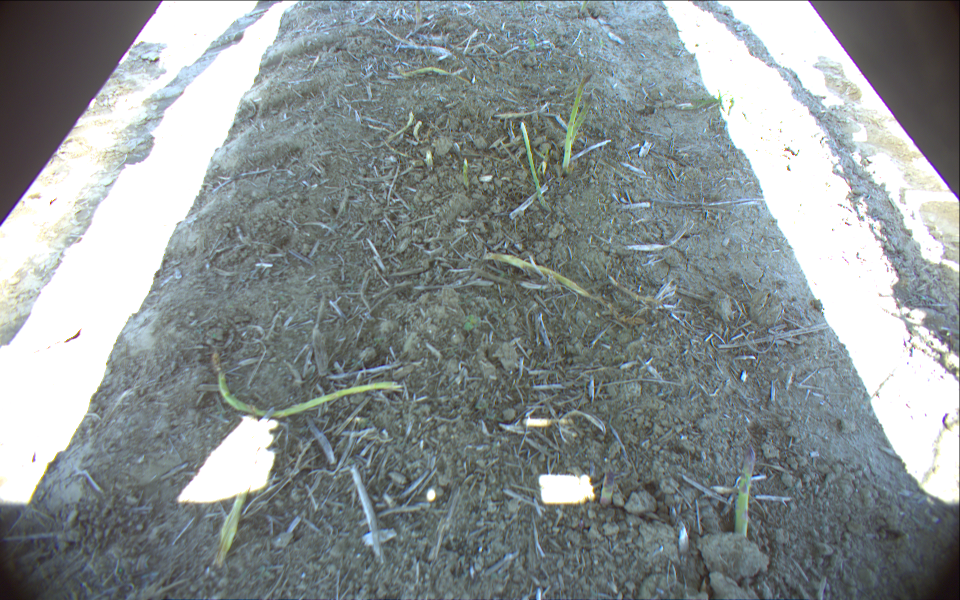aspa: (561, 73, 592, 173), (733, 444, 756, 543), (560, 92, 594, 152)
